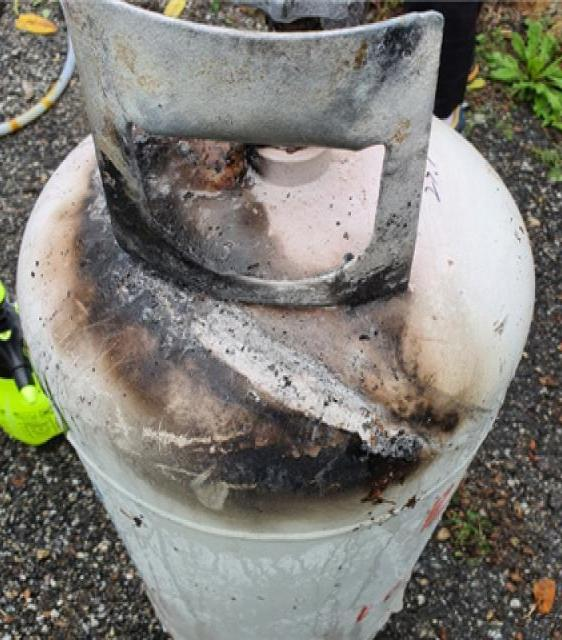cylinder: (1, 0, 562, 640)
